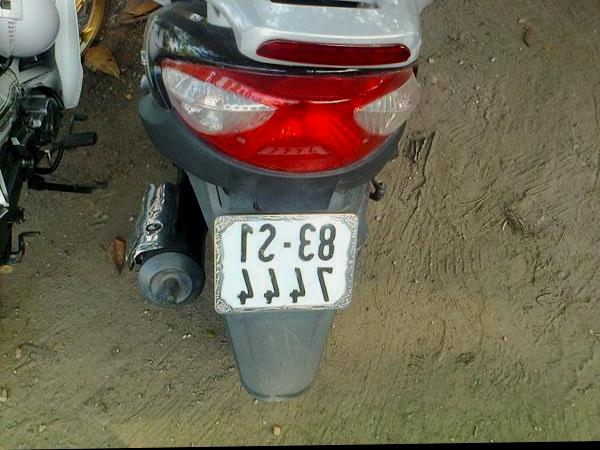License_Plate: (221, 215, 353, 310)
